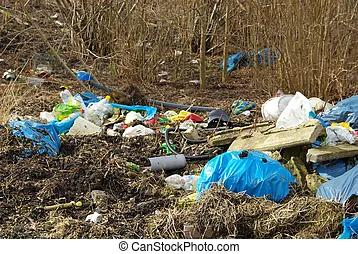garbage: (215, 95, 358, 220), (30, 78, 208, 160)
